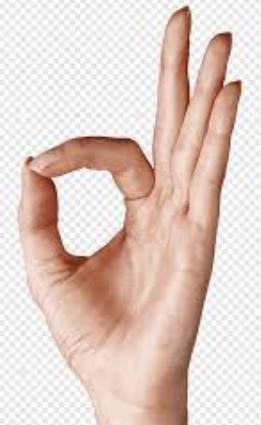left: (9, 1, 243, 387)
